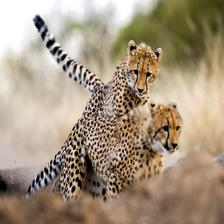Cheetah: (21, 15, 165, 200), (52, 100, 184, 218)
